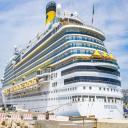cruises: (2, 3, 127, 124)
